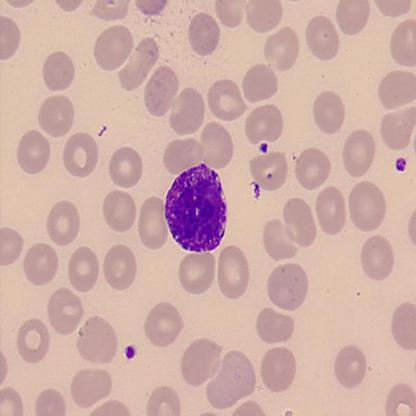Basophil: (163, 161, 229, 254)
